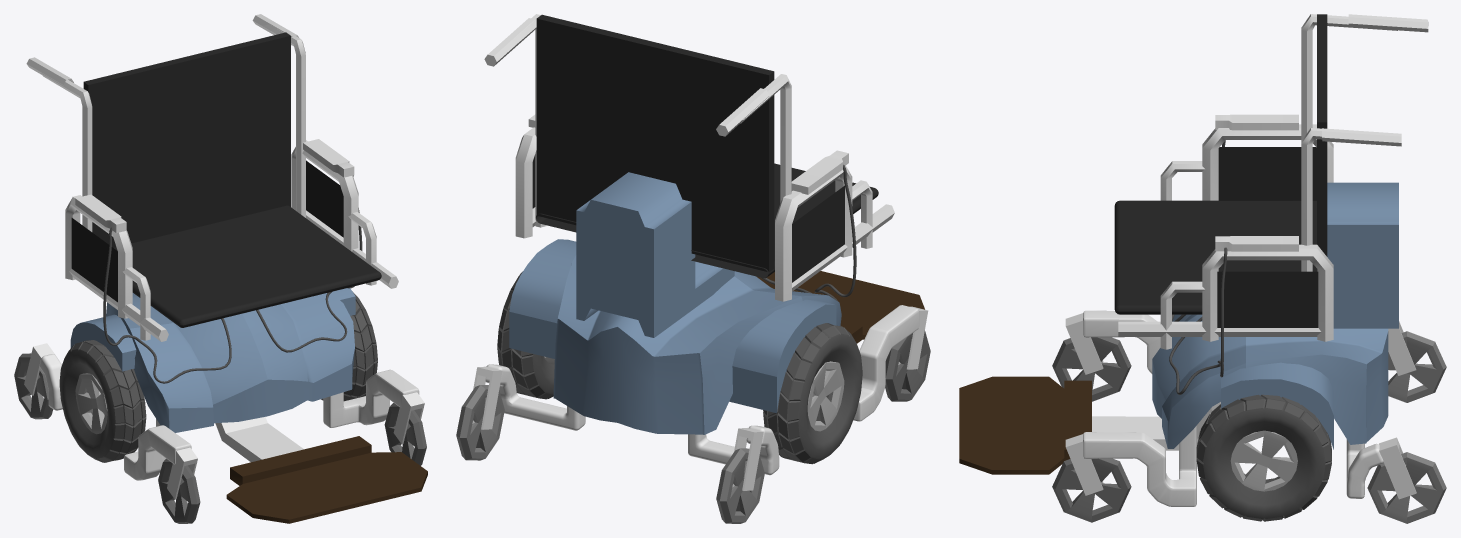
File: electric_wheelchair_uncombined_final.fbx
3 renders of one model, left to right at view 1: azimuth 30°, elevation 25°; view 2: azimuth 150°, elevation 25°; view 3: azimuth 270°, elevation 25°, orthographic. The views are drawn at different scales.
Parts seen in each view (by area): view 1: Chair1, bottom_piece, metal, foot_stand, big_tires, Wheels_small_front, wires, big_tires_center, Wheels_small_back; view 2: bottom_piece, Chair1, metal, big_tires, Wheels_small_back, foot_stand, Wheels_small_front, big_tires_center, wires; view 3: metal, bottom_piece, Chair1, foot_stand, big_tires, Wheels_small_front, Wheels_small_back, big_tires_center, wires.
Part boxes in pixels (<box>): Chair1: <box>71,32,381,327</box>; bottom_piece: <box>70,288,355,432</box>; metal: <box>24,14,424,499</box>; foot_stand: <box>226,436,427,523</box>; big_tires: <box>59,291,377,462</box>; Wheels_small_front: <box>158,403,426,523</box>; wires: <box>103,175,362,383</box>; big_tires_center: <box>75,373,107,434</box>; Wheels_small_back: <box>14,353,53,419</box>; bottom_piece: <box>509,172,841,434</box>; Chair1: <box>532,14,878,282</box>; metal: <box>472,14,928,490</box>; big_tires: <box>497,271,862,464</box>; Wheels_small_back: <box>456,385,764,523</box>; foot_stand: <box>756,271,924,343</box>; Wheels_small_front: <box>885,330,930,401</box>; big_tires_center: <box>544,356,844,431</box>; wires: <box>761,164,856,301</box>; metal: <box>1065,14,1428,506</box>; bottom_piece: <box>1152,182,1398,449</box>; Chair1: <box>1114,14,1327,327</box>; foot_stand: <box>959,376,1091,474</box>; big_tires: <box>1196,394,1331,521</box>; Wheels_small_front: <box>1052,337,1131,522</box>; Wheels_small_back: <box>1367,331,1446,523</box>; big_tires_center: <box>1230,430,1297,491</box>; wires: <box>1169,141,1227,394</box>.
Size of the model in its own units: 76.59 by 98.77 by 111.
